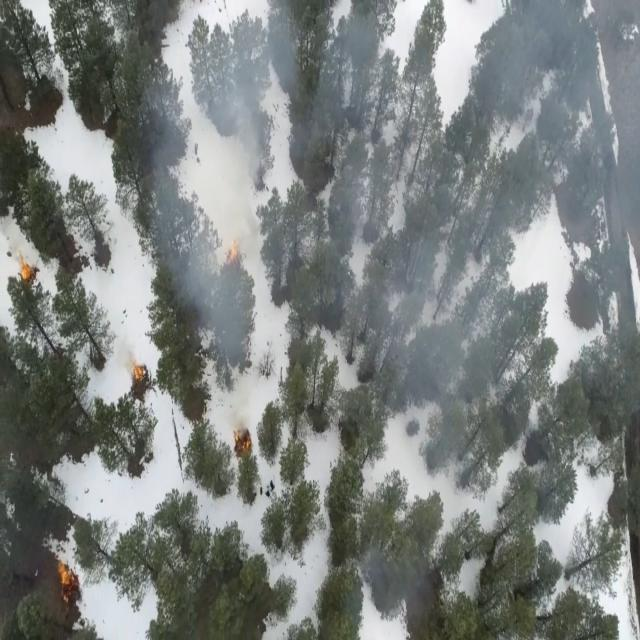Fire: (52, 545, 88, 609), (217, 213, 245, 273), (119, 354, 157, 396), (229, 413, 256, 461), (12, 250, 40, 290)
